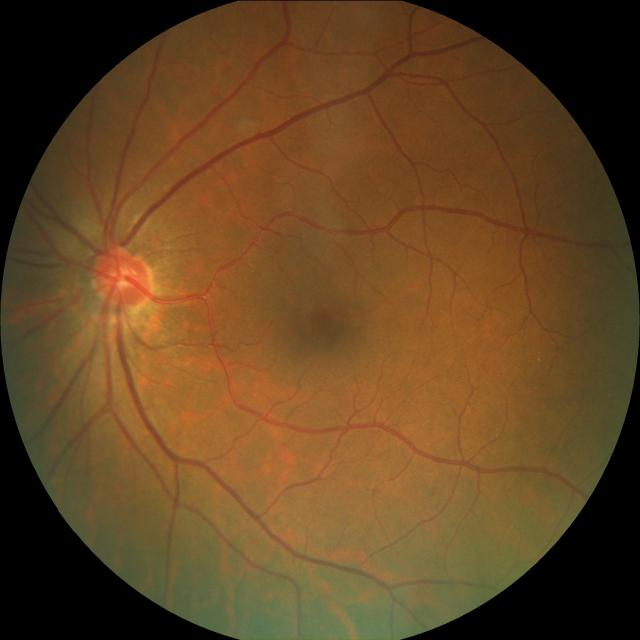OC: (107, 264, 135, 290)
OD: (92, 246, 153, 307)
